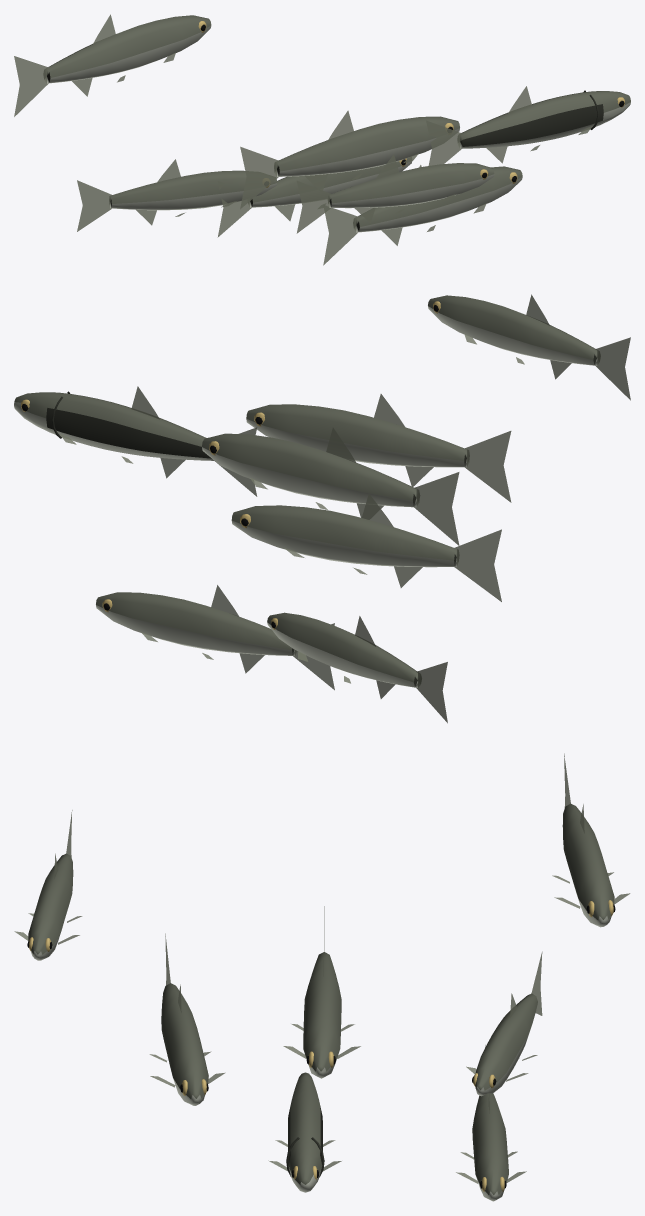
Rendered from lake-golyan-shallows-0.glb.
The picture shows the model from 3 angles, top to bottom: view 1: azimuth 30°, elevation 25°; view 2: azimuth 150°, elevation 25°; view 3: azimuth 270°, elevation 25°; orthographic projection. The views are drawn at different scales.
Parts seen in each view (by area): view 1: lake-golyan-shallows-0; view 2: lake-golyan-shallows-0; view 3: lake-golyan-shallows-0.
Boxes of the visible parts, x1,y1,x2,y2 form: lake-golyan-shallows-0: (14,14,630,265); lake-golyan-shallows-0: (14,294,630,723); lake-golyan-shallows-0: (14,753,630,1201).
Bounding box in the file's own units: 0.178 × 0.0712 × 0.1477.
